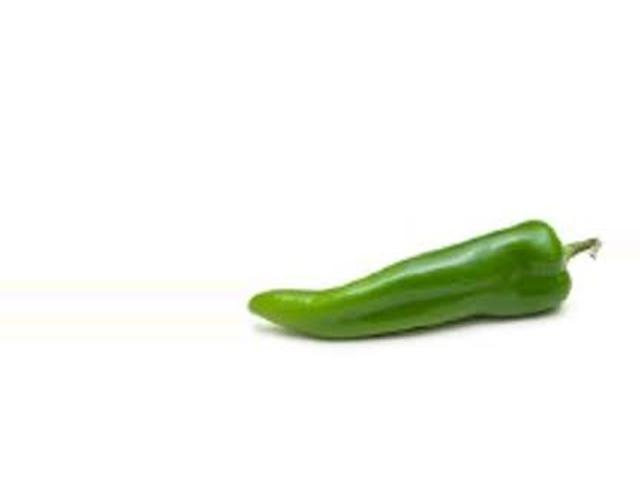bell_pepper: (245, 212, 612, 347)
